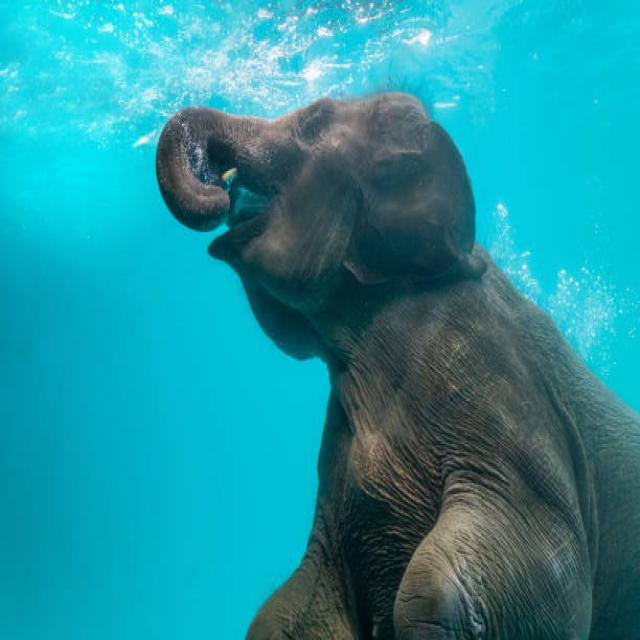Elephant: (135, 69, 640, 640)
